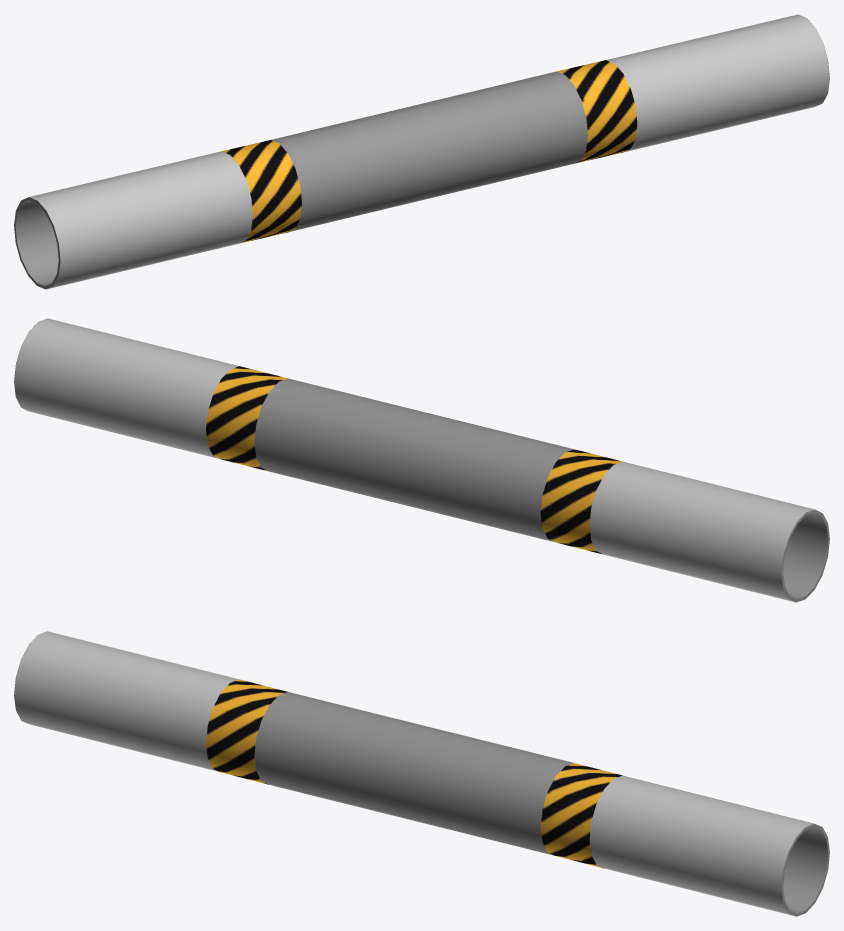
Rendered from SM_Pipe_04.fbx.
The picture shows the model from 3 angles, top to bottom: view 1: azimuth 30°, elevation 25°; view 2: azimuth 150°, elevation 25°; view 3: azimuth 330°, elevation 25°; orthographic projection.
Visible parts, largest first — view 1: SM_Pipe_04; view 2: SM_Pipe_04; view 3: SM_Pipe_04.
Boxes of the visible parts, left/top/right/bottom form: SM_Pipe_04: left=14, top=14, right=829, bottom=289; SM_Pipe_04: left=14, top=318, right=829, bottom=602; SM_Pipe_04: left=14, top=631, right=829, bottom=916.
Bounding box in the file's own units: 381 × 44.6 × 40.99.
1 material, 1 textured.
